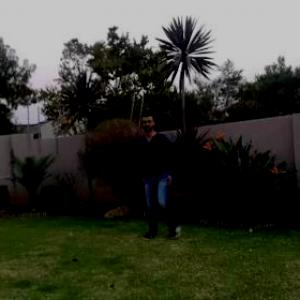follow: (139, 112, 174, 232)
